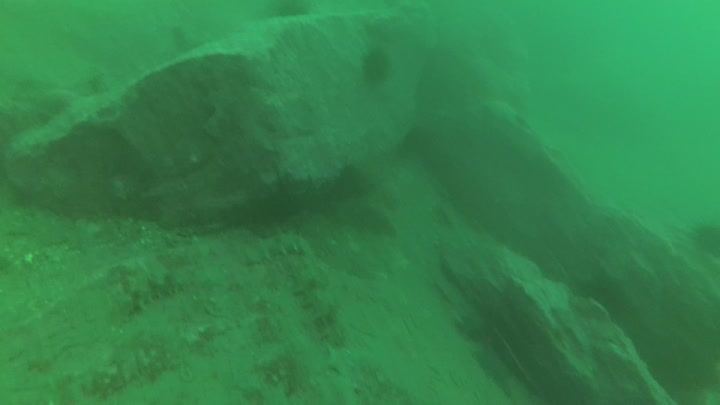echinus: (238, 163, 336, 239), (569, 273, 629, 327), (322, 161, 375, 208), (360, 46, 394, 89), (688, 216, 720, 259)
holothurian: (292, 270, 350, 350), (111, 271, 193, 321), (240, 232, 317, 268)
